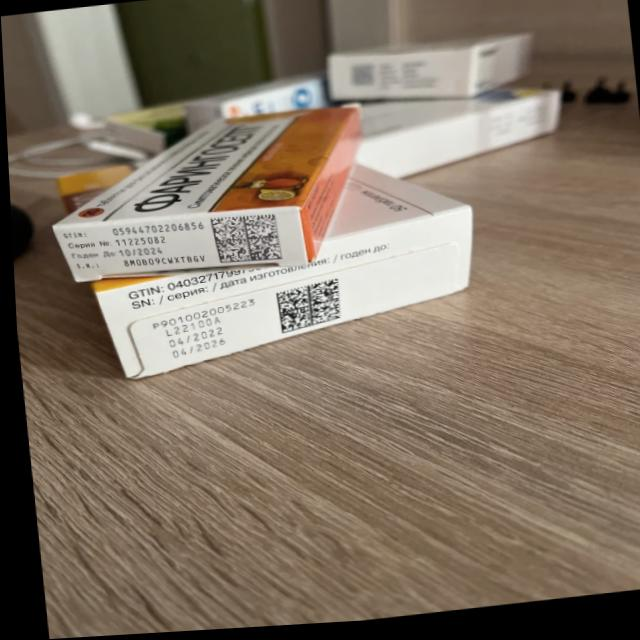datamatrix: (208, 214, 283, 271), (271, 281, 340, 338)
